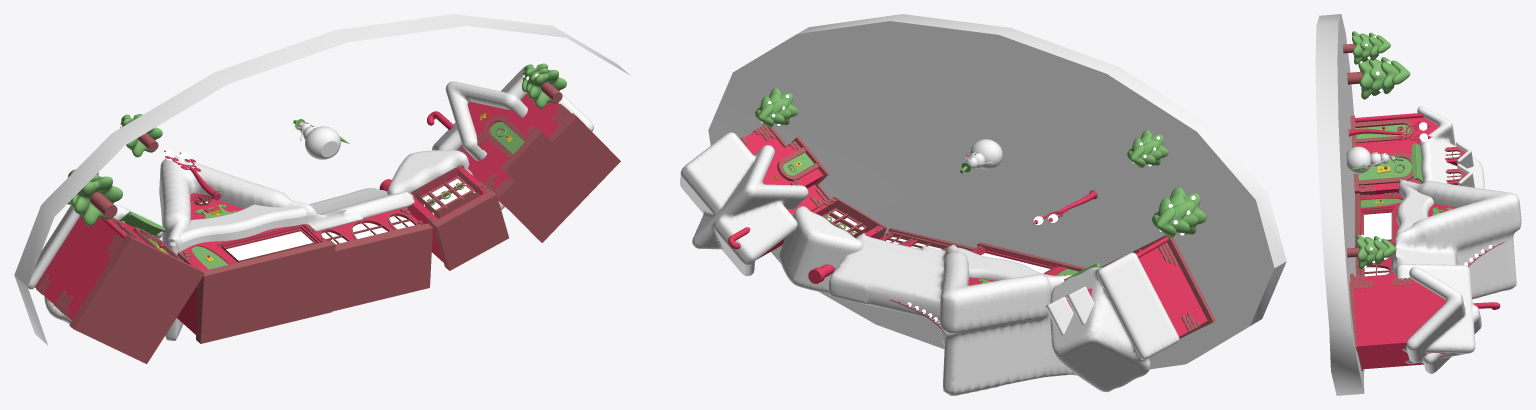
3 renders of one model, left to right at view 1: azimuth 30°, elevation 25°; view 2: azimuth 150°, elevation 25°; view 3: azimuth 270°, elevation 25°, orthographic. The views are drawn at different scales.
Visible parts, largest first — view 1: Cube (×6), Cube.1 (×4), Disc, 밑둥, 큰집 눈, Volume Mesher (×3), 밑둥.1, 눈 앞, Volume Mesher.3 (×2), 큰창문(빛), Cube.2, Sphere (+3 smaller); view 2: Disc, Volume Mesher (×4), 큰집 눈, Cube (×3), 눈 앞, 눈 (×2), Cube.1, Sphere; view 3: Disc, 큰집 눈, Volume Mesher (×5), Cube (×3), Cylinder.1 (×3), Cube.1 (×3), 눈 앞, Volume Mesher.3 (×3), Volume Mesher.2 (×3), 큰창문(빛), Cylinder, 기둥 (×2) (+7 smaller).
Boxes of the visible parts, <box> form: Cube (×6): <box>35,102,593,363</box>; Cube.1 (×4): <box>177,94,620,334</box>; Disc: <box>14,14,630,345</box>; 밑둥: <box>196,240,335,343</box>; 큰집 눈: <box>159,156,414,340</box>; Volume Mesher (×3): <box>28,65,593,324</box>; 밑둥.1: <box>329,223,432,312</box>; 눈 앞: <box>169,204,306,255</box>; Volume Mesher.3 (×2): <box>74,70,566,225</box>; 큰창문(빛): <box>226,231,313,260</box>; Cube.2: <box>464,149,510,188</box>; Sphere: <box>305,126,340,159</box>; Disc: <box>708,14,1286,375</box>; Volume Mesher (×4): <box>680,132,1189,392</box>; 큰집 눈: <box>829,233,1072,395</box>; Cube (×3): <box>758,142,1215,338</box>; 눈 앞: <box>957,247,1059,280</box>; 눈 (×2): <box>1045,286,1094,335</box>; Cube.1: <box>815,200,877,237</box>; Sphere: <box>970,139,1002,169</box>; Disc: <box>1315,14,1364,395</box>; 큰집 눈: <box>1391,179,1521,299</box>; Volume Mesher (×5): <box>1368,32,1484,373</box>; Cube (×3): <box>1350,115,1465,369</box>; Cylinder.1 (×3): <box>1355,120,1414,185</box>; Cube.1 (×3): <box>1349,193,1457,370</box>; 눈 앞: <box>1395,185,1433,235</box>; Volume Mesher.3 (×3): <box>1352,31,1372,269</box>; Volume Mesher.2 (×3): <box>1359,33,1386,266</box>; 큰창문(빛): <box>1364,212,1391,239</box>; Cylinder: <box>1358,158,1411,180</box>; 기둥 (×2): <box>1349,113,1423,135</box>.
Bounding box in the file's own units: 1293 × 697 × 453.
